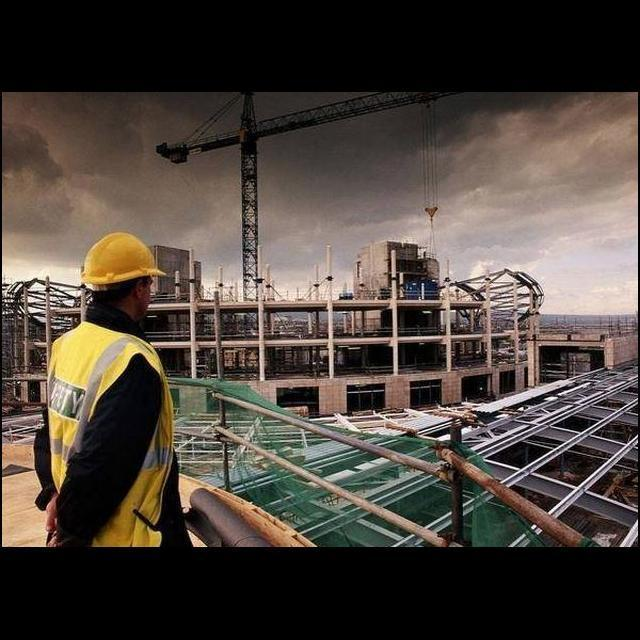Capacete: (81, 232, 165, 286)
Colete: (48, 322, 172, 545)
